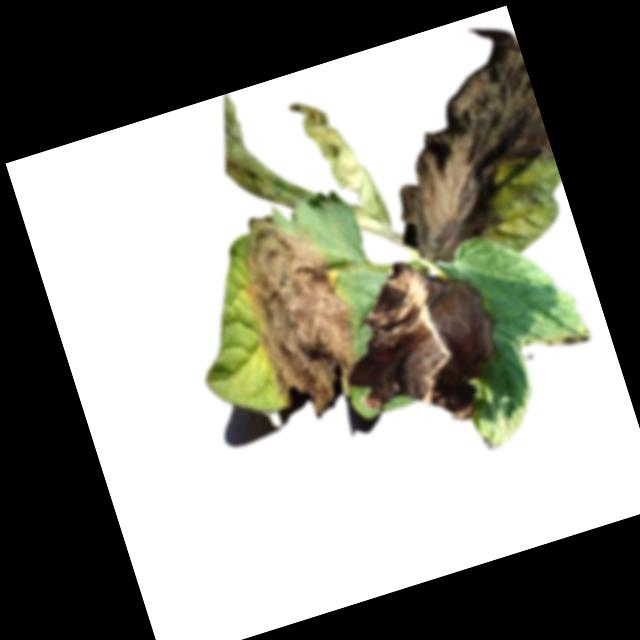Late_blight: (353, 16, 573, 270), (325, 237, 522, 450), (224, 195, 381, 426), (290, 86, 392, 241), (203, 81, 301, 217)
